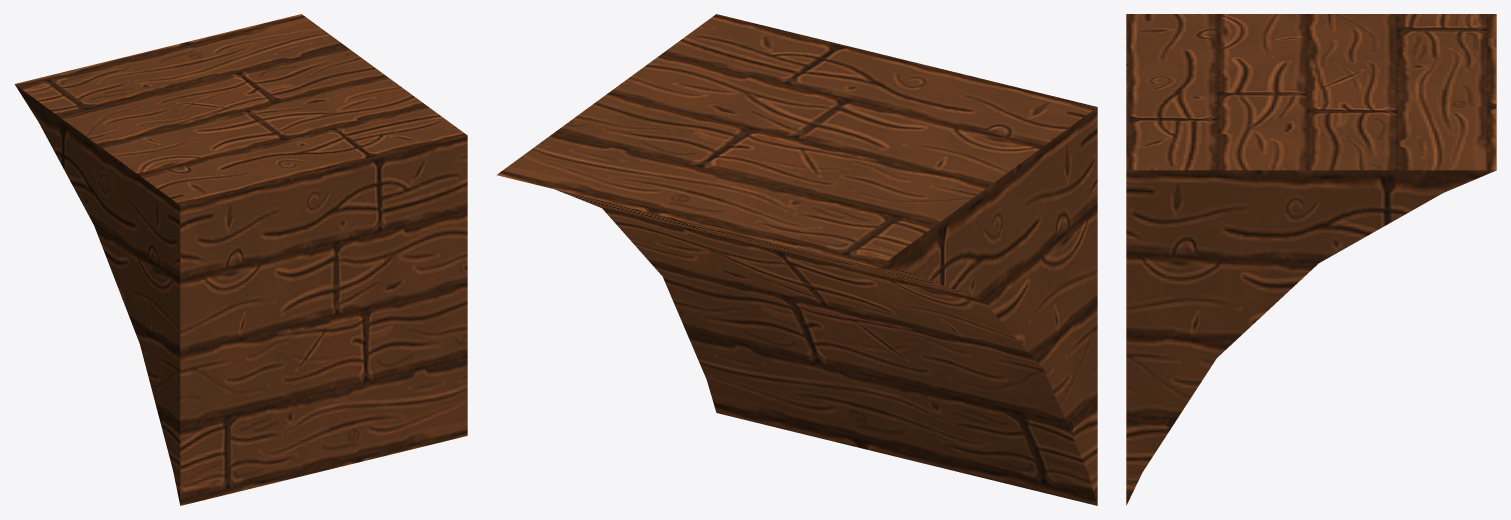
File: POL0310003.fbx
3 renders of one model, left to right at view 1: azimuth 30°, elevation 25°; view 2: azimuth 150°, elevation 25°; view 3: azimuth 270°, elevation 25°, orthographic. The views are drawn at different scales.
Visible parts, largest first — view 1: smPOL0310003; view 2: smPOL0310003; view 3: smPOL0310003.
Boxes of the visible parts, x1,y1,x2,y2 form: smPOL0310003: (14, 14, 467, 505); smPOL0310003: (497, 14, 1097, 505); smPOL0310003: (1126, 14, 1496, 505).
Size of the model in its own units: 161 by 161 by 161.
Materials: 1 (1 with a texture image).
